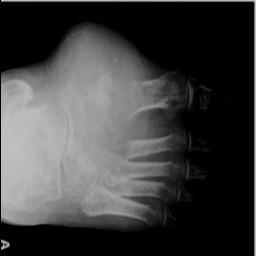cancer: (46, 19, 139, 161)
